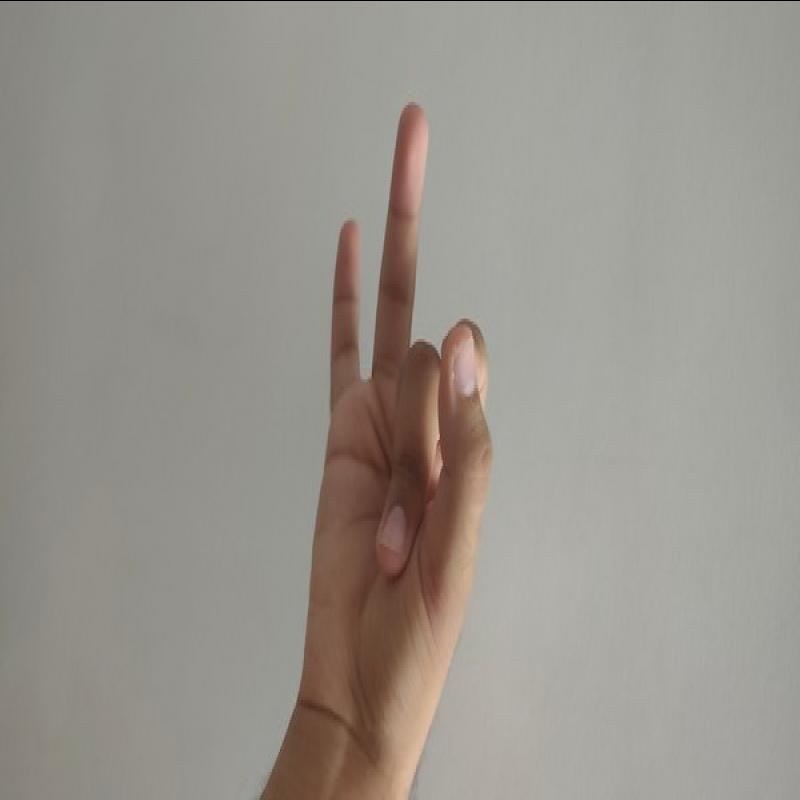Katakam: (289, 96, 513, 769)
